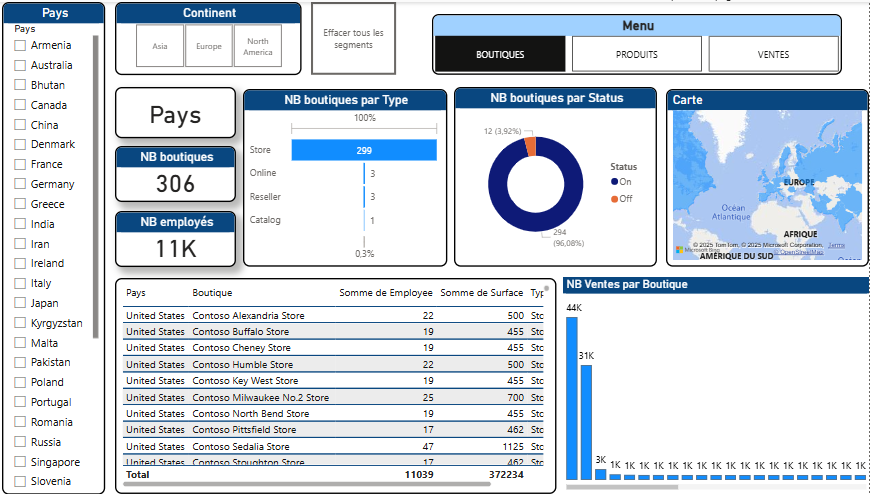

This screenshot's page, from the dashboard's own definition file:
{"tool":"powerbi","page":{"name":"BOUTIQUES","canvas":[1280,720],"ordinal":0},"visuals":[{"type":"slicer","title":"Pays","fields":{"Values":["Geographie.Pays"]},"box":[9.9,0,151.4,720.6],"z":0},{"type":"slicer","title":"Continent","fields":{"Values":["Geographie.Continent"]},"box":[176,0,273.1,106.9],"z":1000},{"type":"card","fields":{"Values":["Geographie.PaysSelected"]},"box":[175.6,124.4,177.1,74.6],"z":2000},{"type":"card","title":"NB boutiques","fields":{"Values":["Boutiques.NB boutiques"]},"box":[175.6,210.7,177.1,82],"z":3000},{"type":"card","title":"NB employés","fields":{"Values":["Sum(Boutiques.Employee)"]},"box":[175.6,305.9,177.1,82],"z":4000},{"type":"funnel","fields":{"Category":["Boutiques.Type"],"Y":["Boutiques.NB boutiques"]},"box":[362.9,127.3,298.5,260.5],"z":5000},{"type":"donutChart","fields":{"Y":["Boutiques.NB boutiques"],"Category":["Boutiques.Status"]},"box":[671.7,124.4,297.1,263.4],"z":6000},{"type":"filledMap","title":"Carte","fields":{"Category":["Geographie.Pays","Geographie.Continent"]},"box":[982,127.3,297.1,260.5],"z":7000},{"type":"tableEx","fields":{"Values":["Geographie.Pays","Boutiques.Boutique","Sum(Boutiques.Employee)","Sum(Boutiques.Surface)","Boutiques.Type","Boutiques.Status"]},"box":[175.4,403.2,645.7,316.3],"z":8000},{"type":"columnChart","fields":{"Category":["Boutiques.Boutique"],"Y":["Sales.NB Ventes"]},"box":[831,403,449,316],"z":9000},{"type":"actionButton","box":[462.2,0,124.6,106.5],"z":10000},{"type":"pageNavigator","title":"Menu","box":[639.5,17.6,600,89.3],"z":11000}]}

Visuals, with their boxes in screenshot pixels (x1, y1, x2, y2), scaled from the page's 1280x720 canvas onto the 870x494 screenshot:
"Pays" slicer: 7/0/110/493
"Continent" slicer: 120/0/305/73
card - Geographie.PaysSelected: 119/85/240/137
"NB boutiques" card: 119/145/240/201
"NB employés" card: 119/210/240/266
funnel - Boutiques.Type x Boutiques.NB boutiques: 247/87/450/266
donutChart - Boutiques.NB boutiques x Boutiques.Status: 457/85/658/266
"Carte" filledMap: 667/87/869/266
tableEx - Geographie.Pays x Boutiques.Boutique: 119/277/558/493
columnChart - Boutiques.Boutique x Sales.NB Ventes: 565/277/869/493
actionButton: 314/0/399/73
"Menu" pageNavigator: 435/12/842/73
